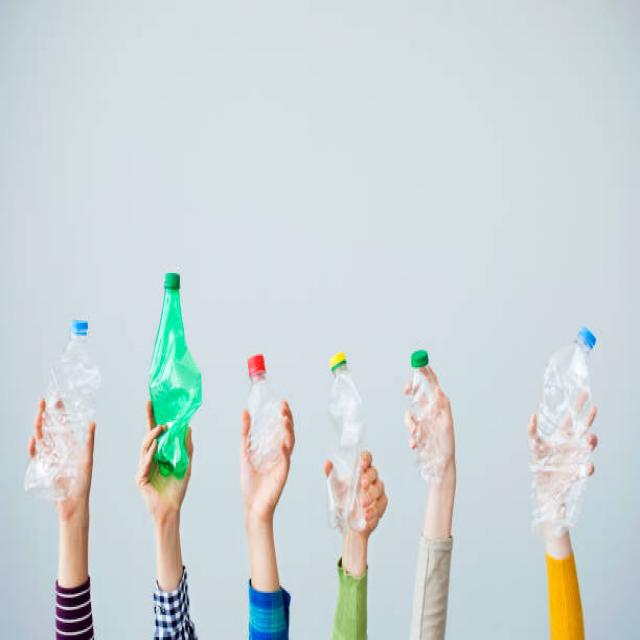plastic: (530, 327, 597, 539), (26, 320, 103, 494), (152, 272, 194, 476), (327, 349, 363, 529), (246, 353, 281, 477), (412, 350, 440, 484)
